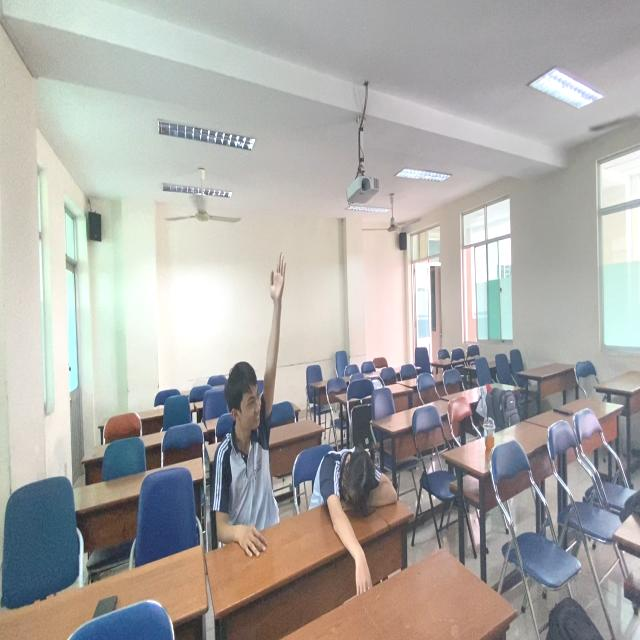raise_hand: (209, 250, 291, 559)
sleep: (307, 438, 402, 536)
